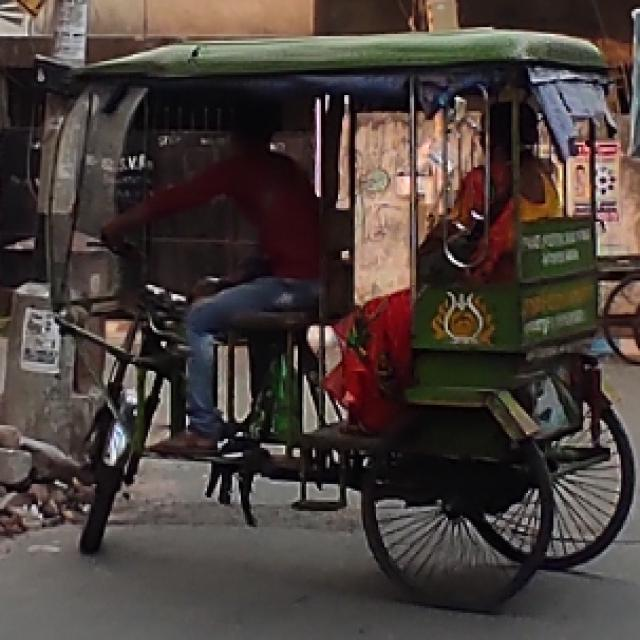rickshaw: (39, 27, 639, 617)
